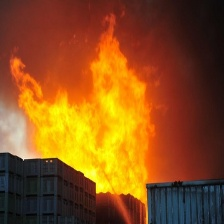fire: (8, 25, 149, 198)
